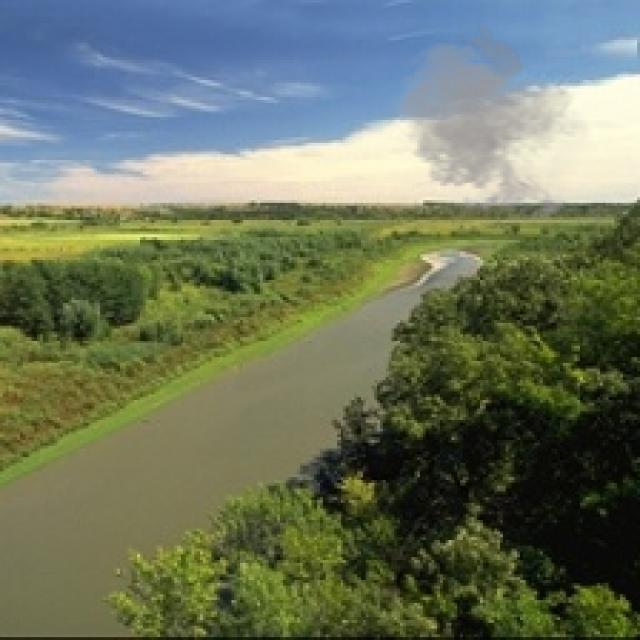smoke: (389, 23, 594, 223)
